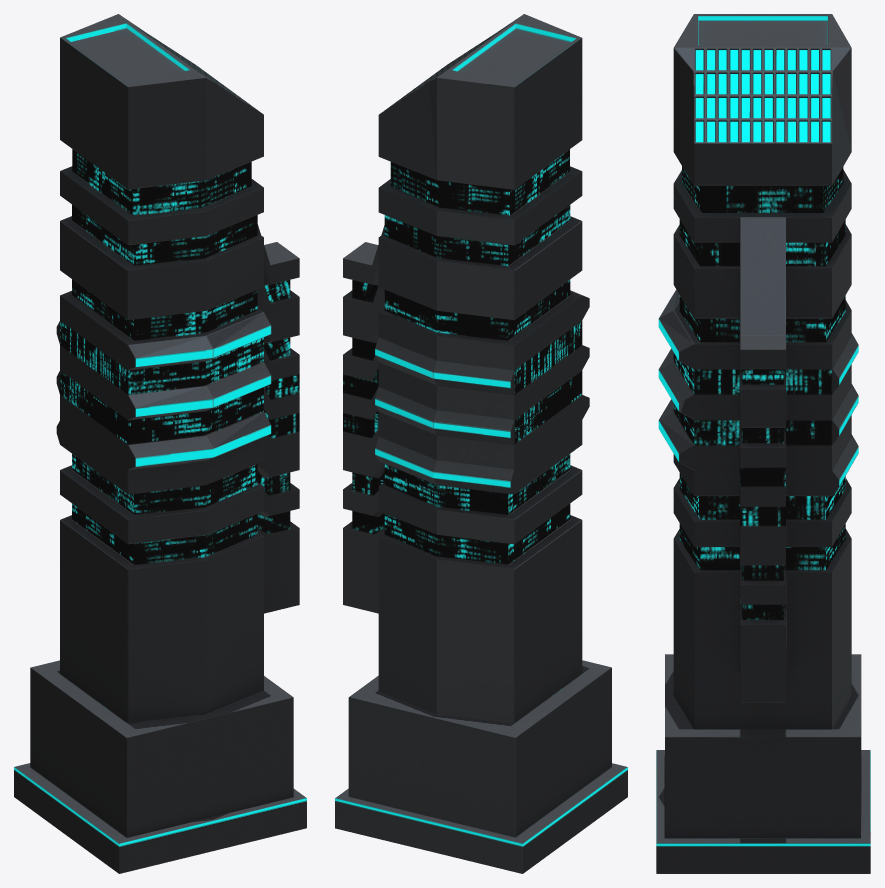
The model's file is Tower_a.gltf.
3 renders of one model, left to right at view 1: azimuth 30°, elevation 25°; view 2: azimuth 150°, elevation 25°; view 3: azimuth 270°, elevation 25°, orthographic.
Visible parts, largest first — view 1: blok_5.001; view 2: blok_5.001; view 3: blok_5.001.
Boxes of the visible parts, <box> form: blok_5.001: <box>14,14,306,873</box>; blok_5.001: <box>335,14,627,873</box>; blok_5.001: <box>656,14,870,873</box>.
Size of the model in its own units: 34.94 by 115 by 28.73.
Materials: 3 (3 with a texture image).
